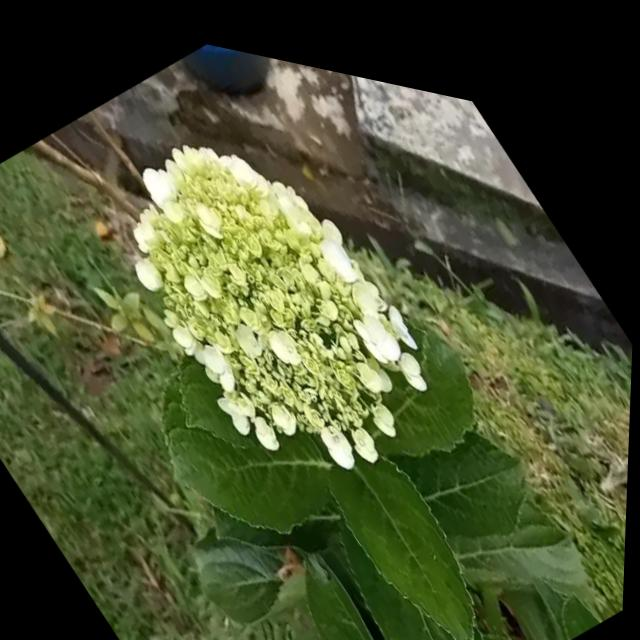Flower: (68, 48, 479, 535)
